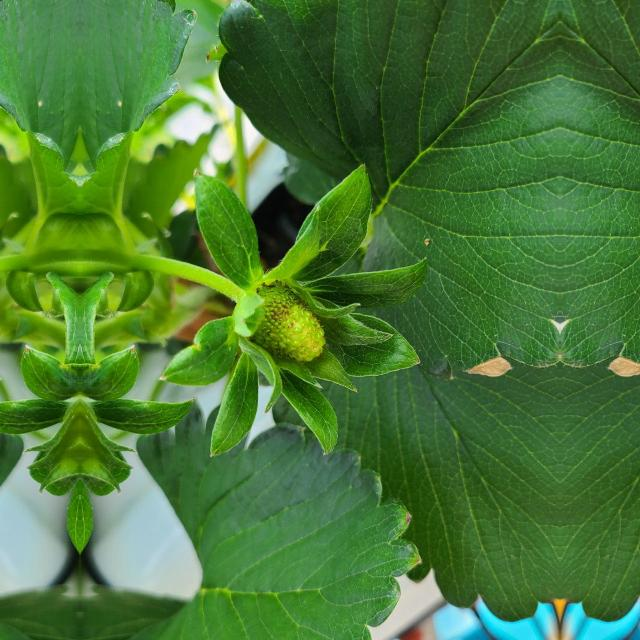Health_25: (245, 282, 325, 361)
